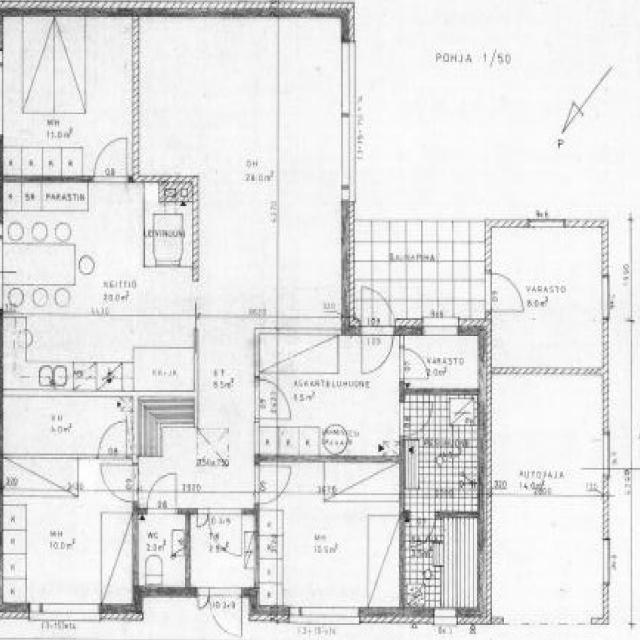door: (361, 318, 394, 376), (361, 278, 394, 335), (208, 587, 242, 640), (424, 279, 456, 335), (93, 133, 127, 184), (208, 508, 242, 556), (255, 465, 293, 505), (255, 380, 293, 418), (486, 274, 522, 312), (148, 474, 176, 516), (104, 467, 138, 501), (99, 419, 126, 460), (399, 403, 432, 436), (412, 513, 434, 548), (196, 587, 208, 616), (198, 508, 208, 529)
